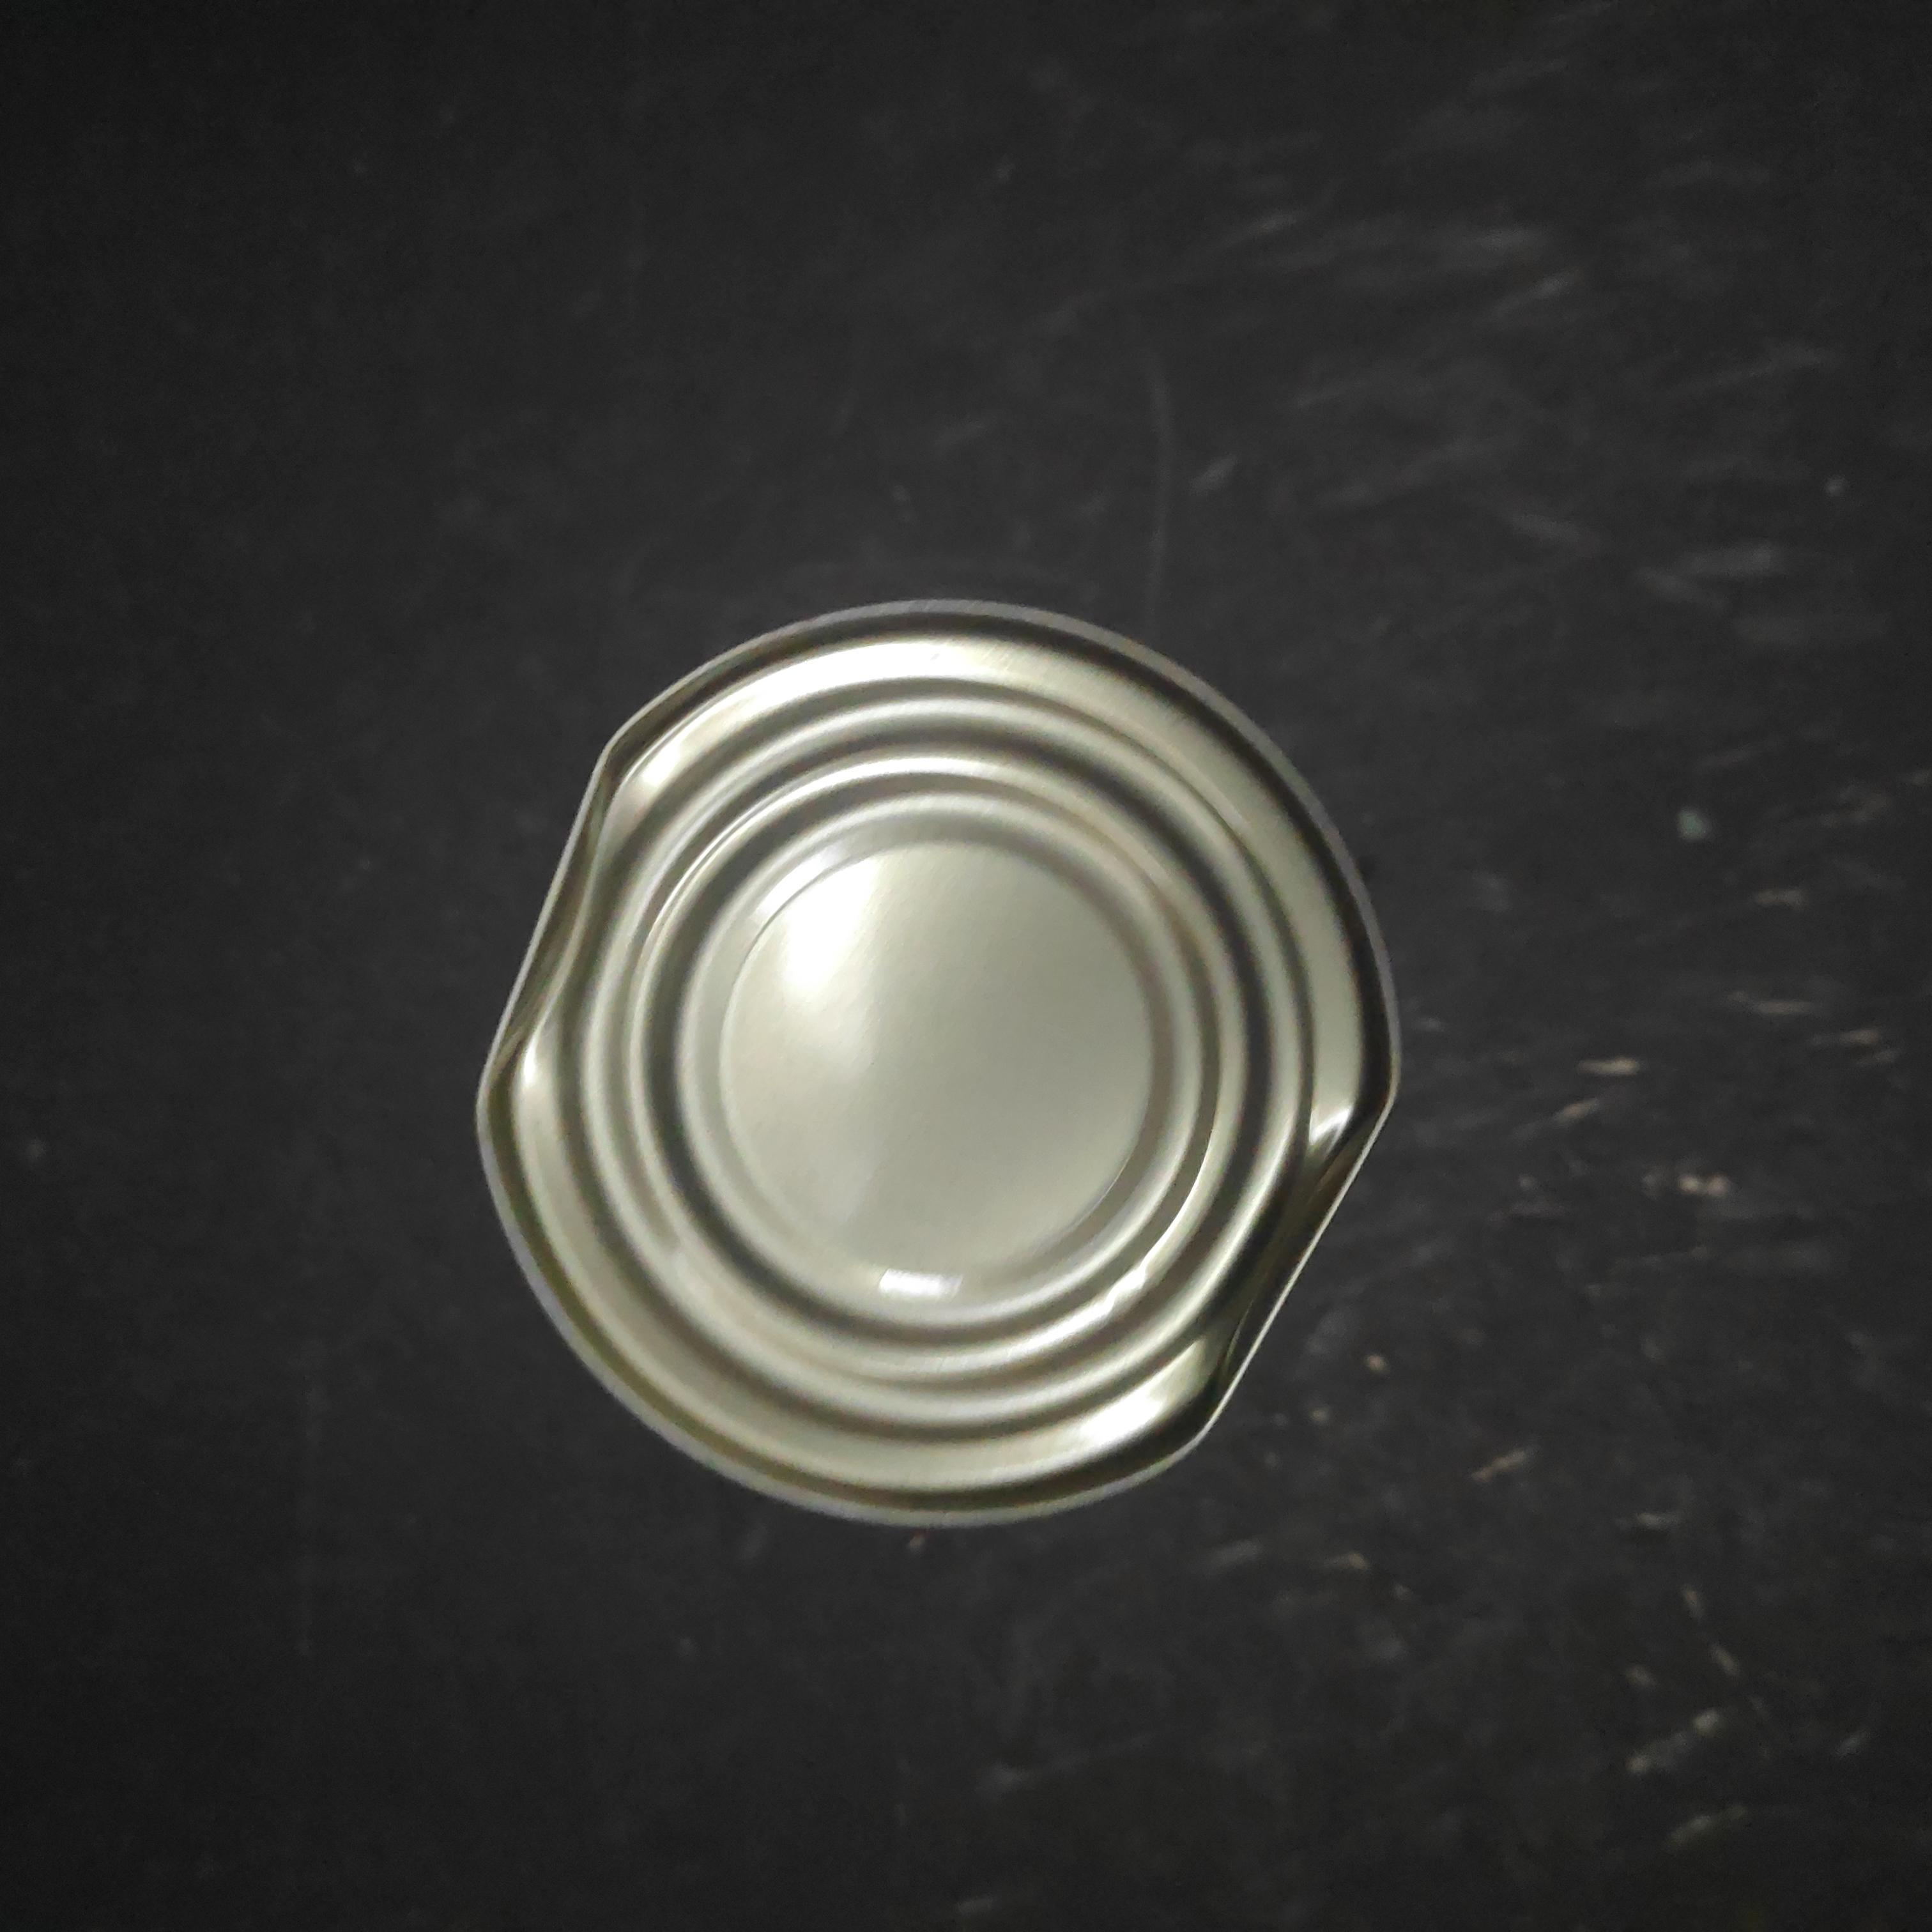Minor Defect: (471, 586, 1421, 1555)
